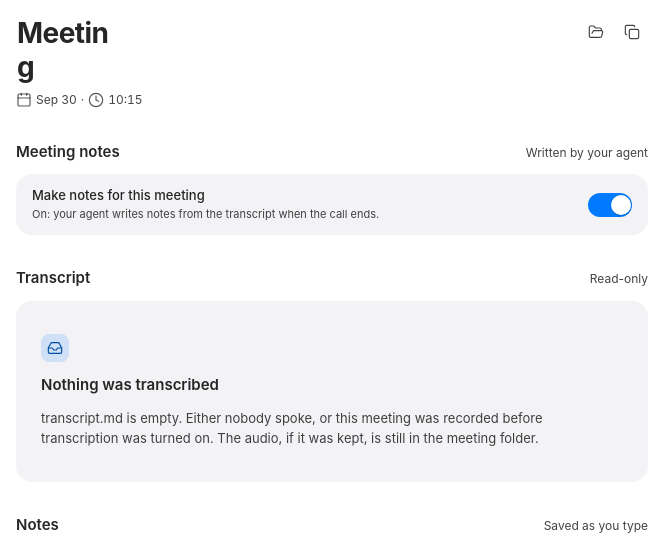
it: Review's header › Copy folder path copies the path and says Copied
Step 1. Click the button named "Copy folder path" → click(632, 32), box left=616, top=16, right=648, bottom=48
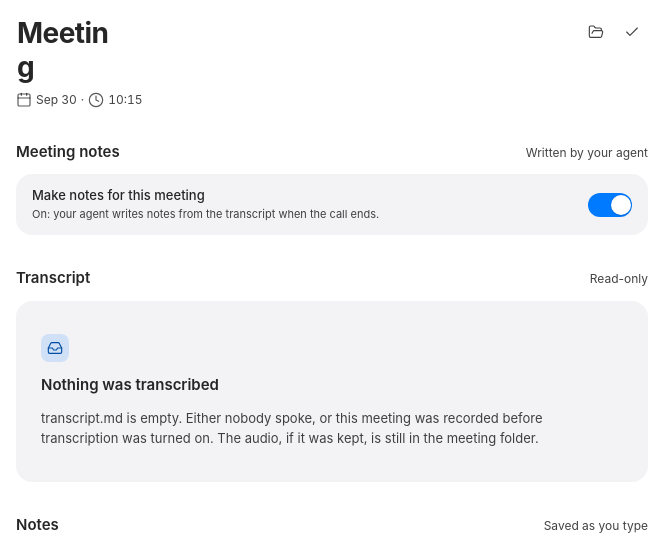
Check: the button named "Copied" is shown, box left=616, top=16, right=648, bottom=48
